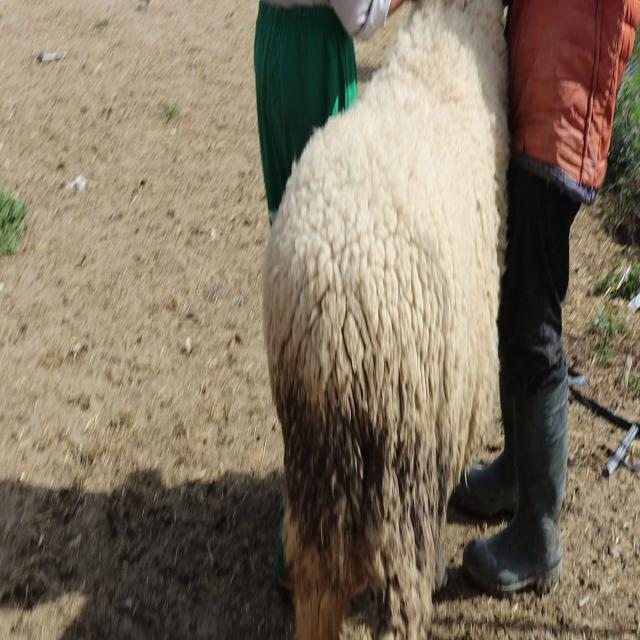Score_5: (262, 0, 508, 639)
